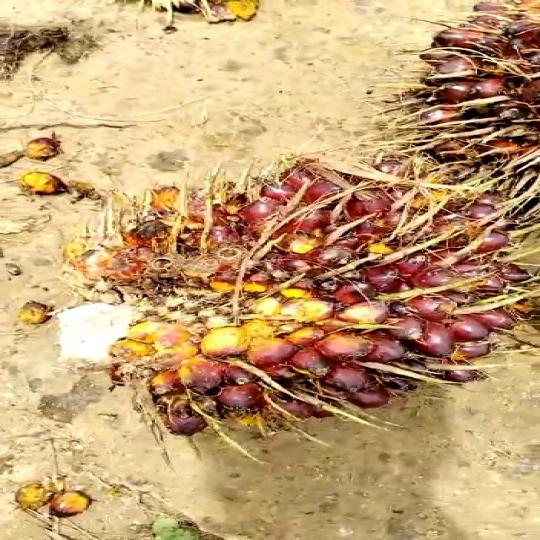masak: (53, 159, 540, 428)
